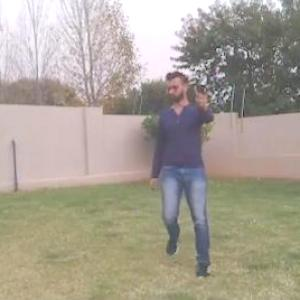takeoff-hand: (189, 81, 220, 113)
